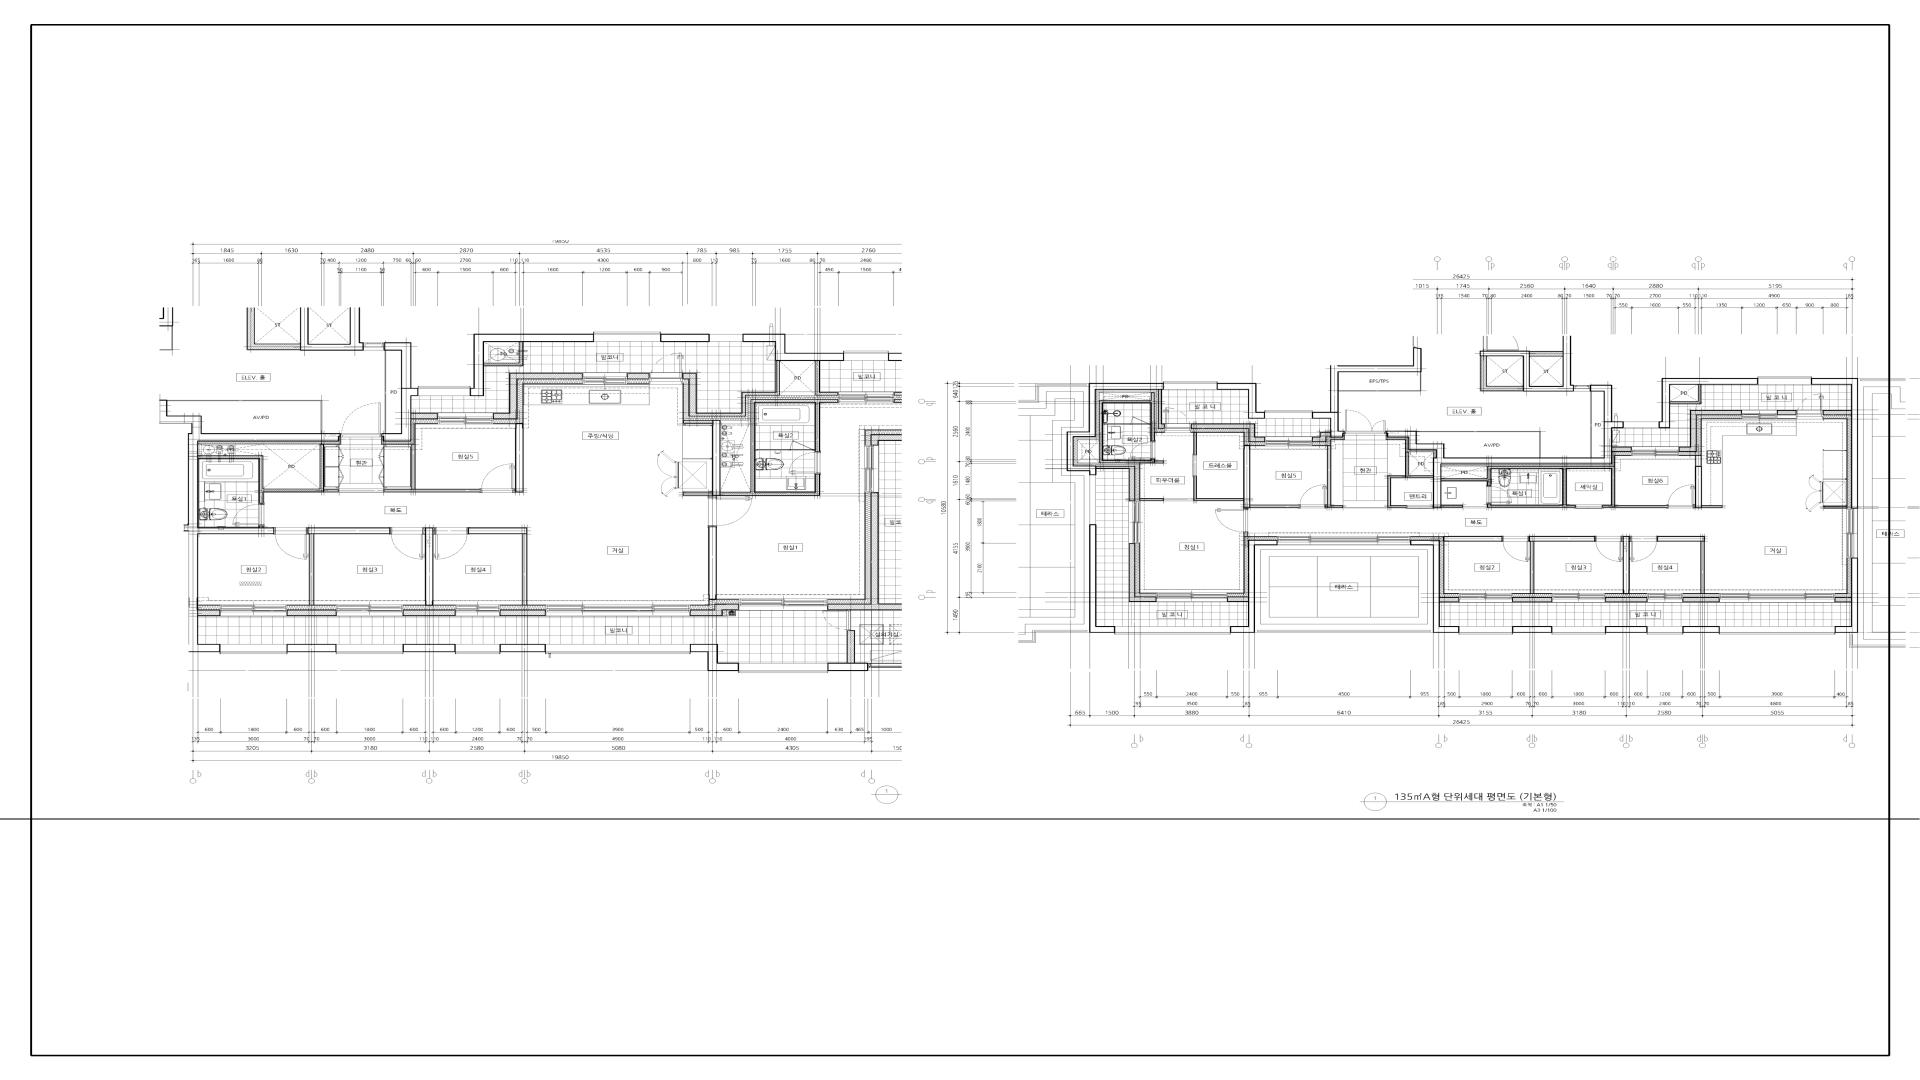door: (341, 403, 382, 437), (708, 496, 752, 527), (390, 527, 425, 560), (433, 527, 469, 559), (274, 527, 308, 560), (649, 353, 683, 384), (481, 463, 515, 493), (1345, 410, 1386, 434), (1215, 508, 1248, 533), (1630, 536, 1658, 562), (1502, 536, 1530, 562), (789, 452, 821, 474), (233, 504, 265, 526), (1596, 536, 1623, 562), (1299, 484, 1327, 509), (1164, 408, 1191, 433), (1796, 394, 1823, 419), (1668, 485, 1695, 509), (823, 611, 851, 631), (1483, 336, 1519, 351), (1486, 486, 1512, 504), (790, 441, 813, 451), (1131, 417, 1149, 425), (1407, 505, 1433, 509), (1576, 505, 1602, 509), (1193, 455, 1197, 476)
wall: (160, 400, 341, 652), (1386, 385, 1624, 508), (720, 399, 839, 496), (828, 493, 918, 611), (1313, 347, 1422, 438), (1067, 383, 1163, 475), (470, 334, 594, 396), (198, 444, 324, 504), (1441, 466, 1615, 508), (1193, 445, 1299, 508), (308, 528, 390, 605), (1812, 378, 1858, 509), (683, 361, 780, 417), (1480, 336, 1574, 392), (167, 400, 322, 433), (1659, 378, 1758, 428), (383, 445, 481, 493), (1410, 540, 1459, 633), (469, 528, 527, 605), (1230, 540, 1277, 633), (889, 353, 928, 463), (493, 373, 583, 419), (905, 492, 928, 671), (1099, 392, 1155, 464), (1530, 536, 1595, 594), (381, 342, 418, 442), (1417, 431, 1541, 458), (300, 307, 364, 351), (1089, 525, 1115, 633), (743, 334, 844, 361), (1658, 536, 1705, 594), (1679, 410, 1742, 452), (246, 307, 300, 350), (1217, 383, 1265, 419), (1835, 558, 1858, 633), (1129, 543, 1156, 602), (1339, 372, 1421, 391), (1480, 356, 1523, 391), (1695, 455, 1723, 508), (1191, 423, 1265, 442), (1096, 466, 1135, 501), (690, 644, 739, 671), (1327, 445, 1343, 508), (484, 342, 524, 366), (816, 361, 838, 396), (1405, 452, 1433, 478), (712, 420, 721, 496), (1387, 475, 1407, 508), (708, 527, 717, 600), (425, 527, 433, 606), (515, 423, 524, 493), (1670, 385, 1702, 404), (690, 604, 739, 616), (871, 434, 918, 445), (403, 644, 456, 652), (1623, 536, 1630, 594), (287, 644, 336, 652), (661, 334, 709, 342), (500, 644, 546, 652), (1443, 536, 1502, 542), (287, 610, 336, 617), (828, 663, 868, 671), (403, 610, 455, 616), (1605, 626, 1647, 633), (500, 610, 546, 616), (1158, 390, 1165, 429), (1513, 626, 1552, 633), (847, 630, 855, 663), (1683, 626, 1720, 633), (1605, 597, 1647, 603), (160, 307, 173, 326), (1512, 597, 1552, 603), (1683, 597, 1720, 603), (1312, 432, 1330, 442), (1530, 351, 1563, 356), (411, 413, 438, 419), (1615, 505, 1668, 508), (1823, 410, 1851, 415), (198, 610, 220, 616), (627, 373, 649, 379), (683, 420, 713, 424), (1440, 597, 1459, 603), (1227, 597, 1248, 602), (1777, 410, 1797, 415), (1612, 447, 1632, 452), (1835, 597, 1851, 603), (894, 392, 918, 396), (1193, 432, 1197, 455), (683, 493, 712, 496), (385, 351, 386, 433), (894, 399, 913, 403), (1140, 498, 1164, 501), (1824, 506, 1847, 509), (756, 449, 790, 451), (1591, 392, 1592, 458), (1441, 505, 1463, 508), (324, 489, 339, 493), (1103, 423, 1131, 425), (1155, 461, 1164, 464), (1244, 533, 1248, 537), (258, 526, 264, 528), (813, 449, 815, 451), (1149, 423, 1150, 425)
window: (546, 605, 690, 616), (546, 644, 690, 654), (1278, 536, 1411, 545), (1720, 593, 1835, 603), (739, 599, 828, 611), (1720, 627, 1835, 635), (739, 663, 828, 673), (1115, 627, 1230, 634), (336, 605, 403, 617), (220, 605, 287, 616), (864, 446, 879, 493), (593, 332, 661, 342), (336, 644, 403, 654), (220, 644, 287, 654), (1156, 593, 1227, 602), (838, 392, 894, 403), (438, 413, 494, 424), (1847, 509, 1858, 558), (1459, 593, 1512, 603), (1552, 593, 1605, 603), (583, 373, 627, 385), (418, 386, 470, 396), (455, 605, 500, 616), (1130, 441, 1156, 459), (1129, 501, 1140, 543), (844, 351, 889, 361), (455, 644, 500, 654), (1552, 627, 1606, 635), (1163, 382, 1217, 390), (1758, 377, 1812, 385), (1265, 437, 1312, 446), (1632, 447, 1679, 456), (1265, 410, 1313, 418), (1459, 627, 1513, 634), (1647, 593, 1683, 603), (1742, 410, 1777, 419), (1090, 475, 1096, 525), (868, 663, 905, 671), (918, 463, 928, 492), (1647, 627, 1683, 635), (709, 334, 743, 342), (1624, 422, 1659, 428), (364, 343, 384, 350), (1574, 385, 1590, 391)
